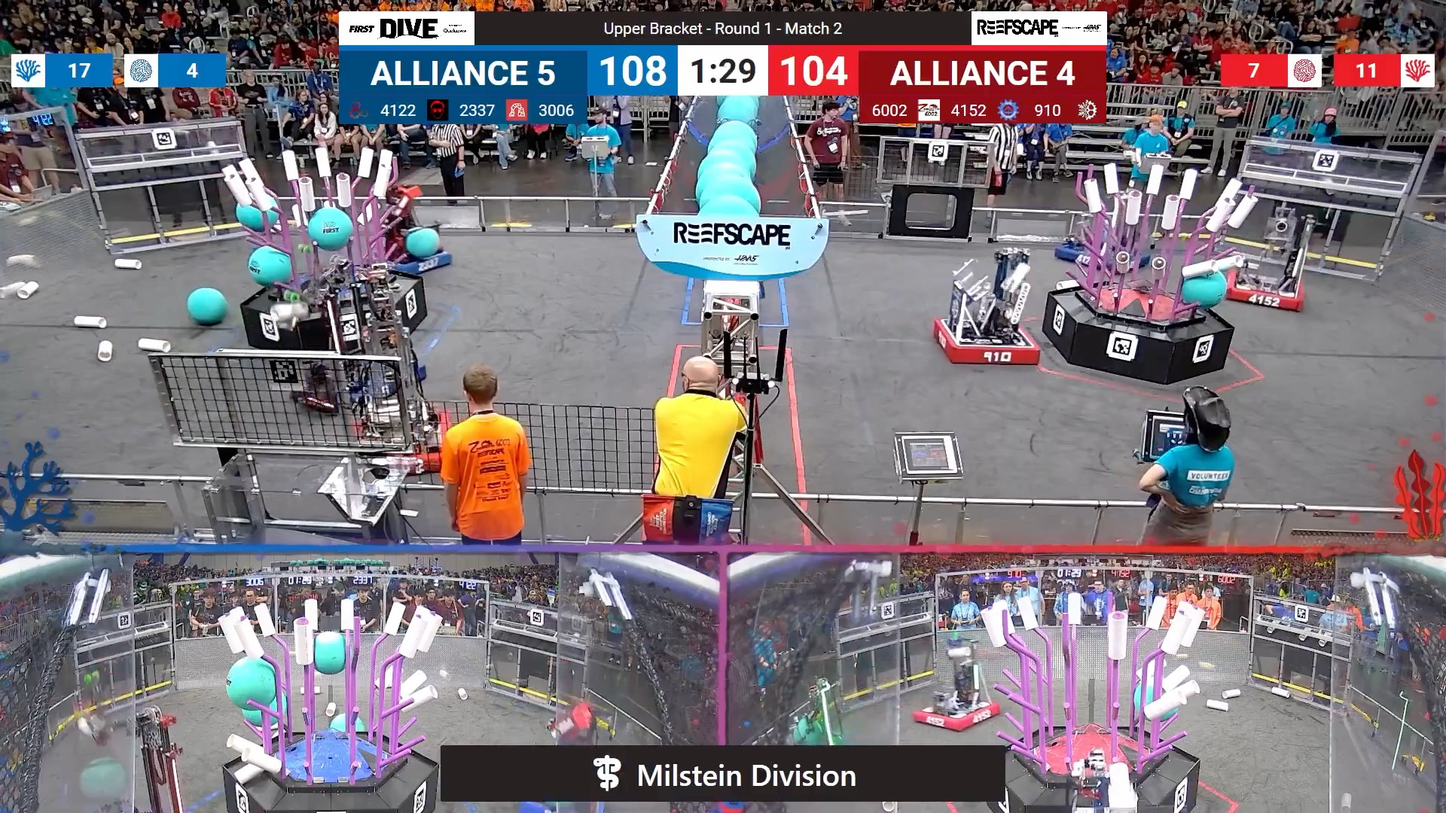bumpers: (292, 349, 424, 413), (343, 406, 447, 480), (928, 315, 1045, 373), (1215, 267, 1314, 314), (908, 694, 1006, 733), (1050, 238, 1152, 269), (376, 250, 457, 278)
